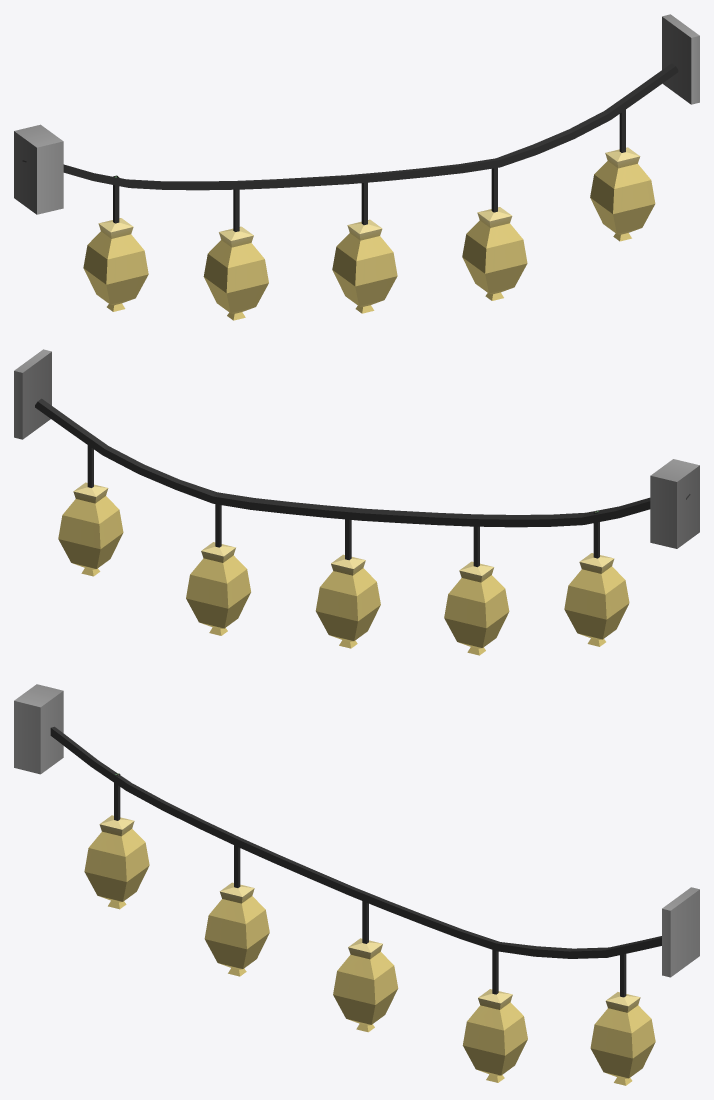
The model's file is B02_cable_lampe_1.fbx.
3 renders of one model, top to bottom at view 1: azimuth 30°, elevation 25°; view 2: azimuth 150°, elevation 25°; view 3: azimuth 330°, elevation 25°, orthographic.
Parts seen in each view (by area): view 1: B02_cable_lampe_1; view 2: B02_cable_lampe_1; view 3: B02_cable_lampe_1.
Part boxes in pixels (x1,y1,x2,y2): B02_cable_lampe_1: (14, 14, 699, 320); B02_cable_lampe_1: (14, 349, 699, 655); B02_cable_lampe_1: (14, 684, 699, 1085).
Size of the model in its own units: 947 by 374 by 72.86.
